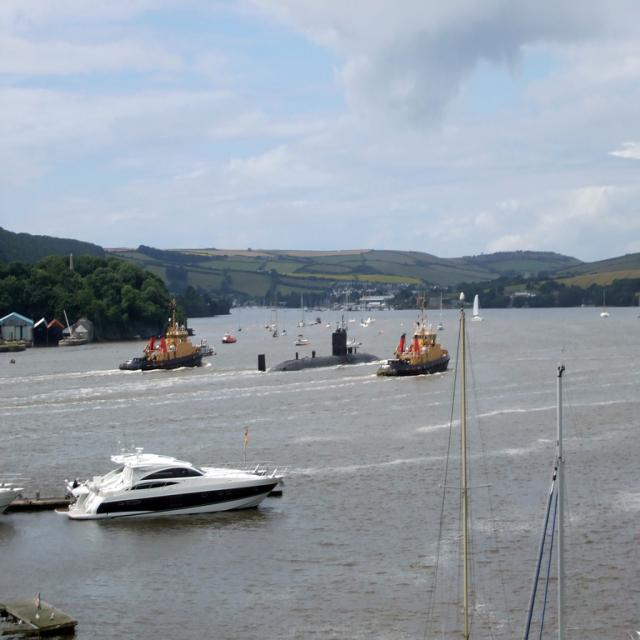Boat: (58, 439, 292, 520), (122, 306, 206, 370), (378, 308, 450, 375)
